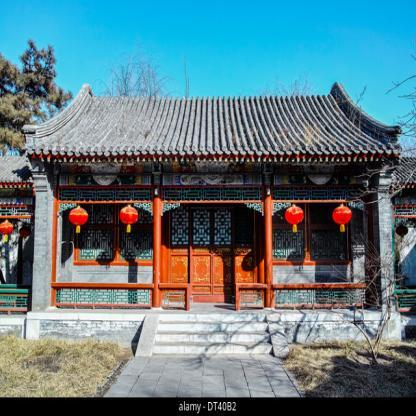Building Outline: (21, 82, 402, 357)
Dont: (316, 229, 413, 364), (348, 148, 415, 207), (68, 206, 88, 234), (332, 205, 352, 232), (285, 205, 304, 233), (120, 205, 138, 233)
Door: (192, 207, 233, 302)
Door Hole: (160, 202, 264, 313)
Facade: (36, 127, 390, 343)
Ground Floor: (51, 158, 374, 313)
Molding: (53, 158, 371, 186)
Pillar: (263, 172, 274, 308), (152, 171, 162, 308)
Roof: (21, 82, 402, 156)
